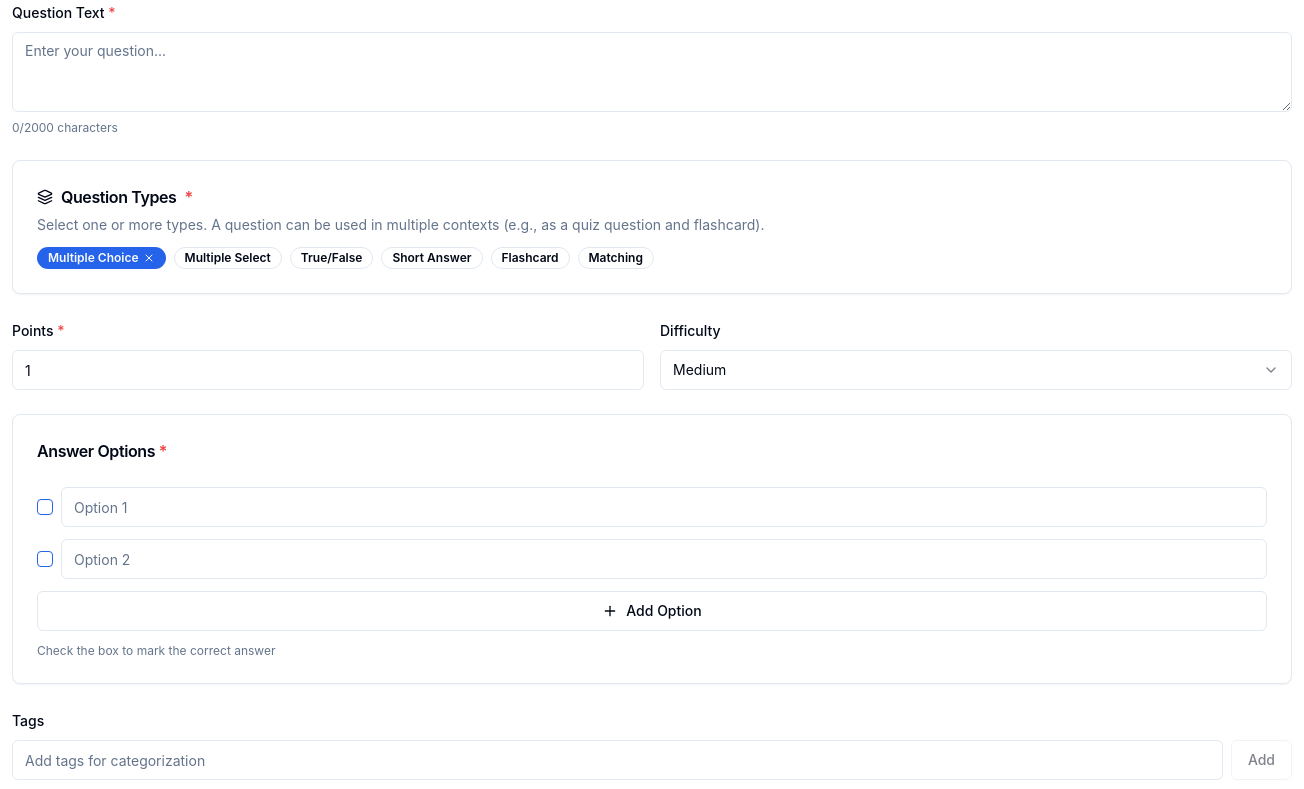
QuestionForm › Multiple Choice Options › should allow removing option when more than 2
Note: Add a third option
Step 1. Click the button "Add Option" → (652, 611), box [37,591,1267,631]
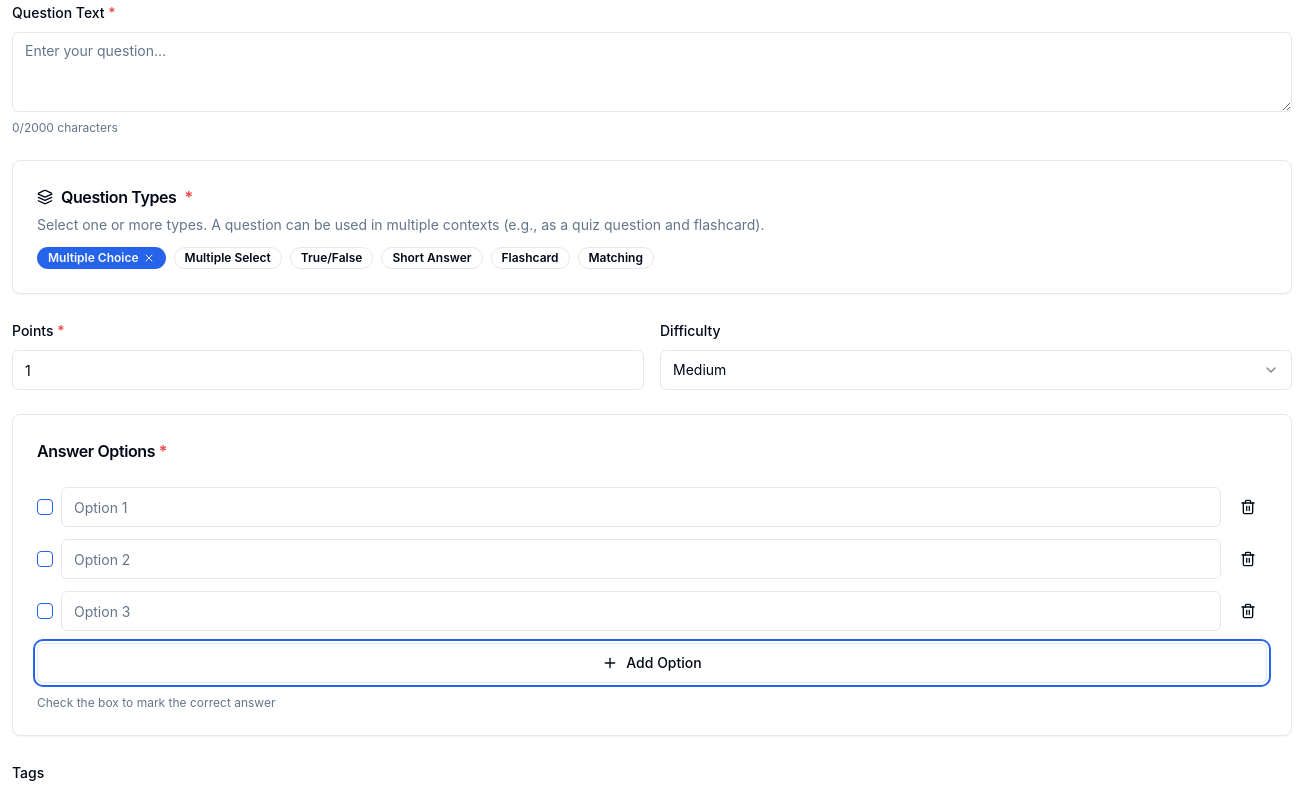
Step 2. Click the 1st button → (1248, 507), box [1229,487,1267,527]
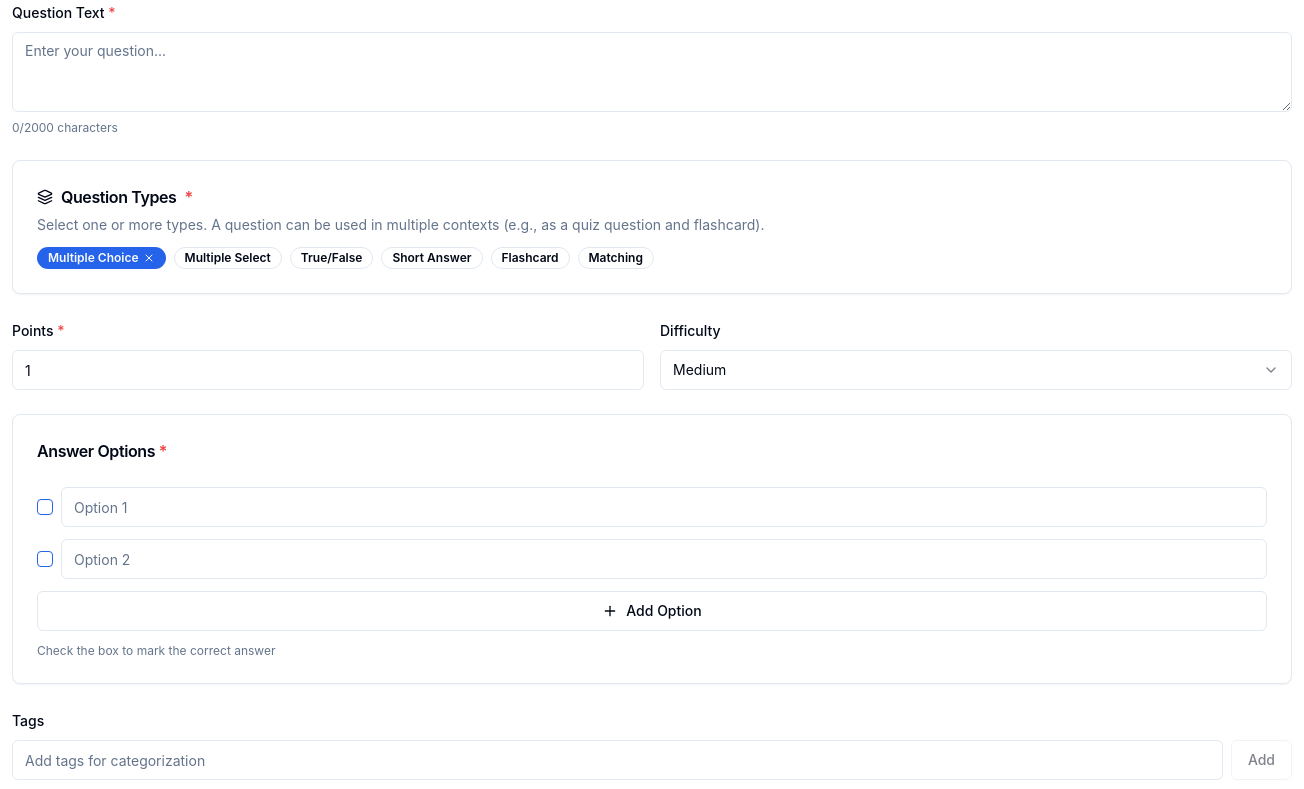
Result: the number of fields with placeholder "Option 1" is 2 at [61,487,1267,527]; [61,539,1267,579]
